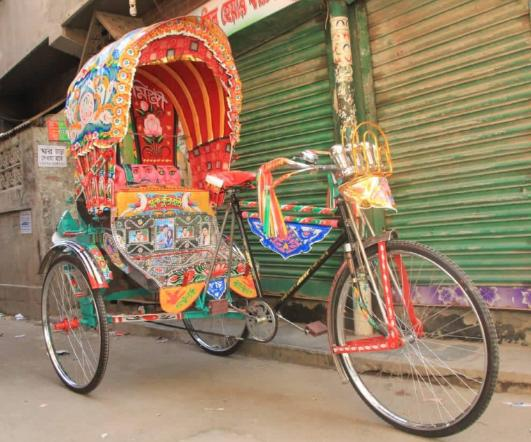objects: (38, 15, 498, 436), (39, 15, 498, 435)
